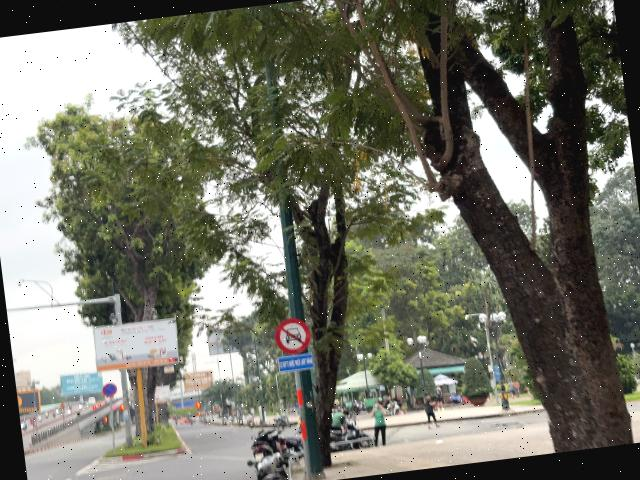cam-o-to: (272, 316, 312, 356)
